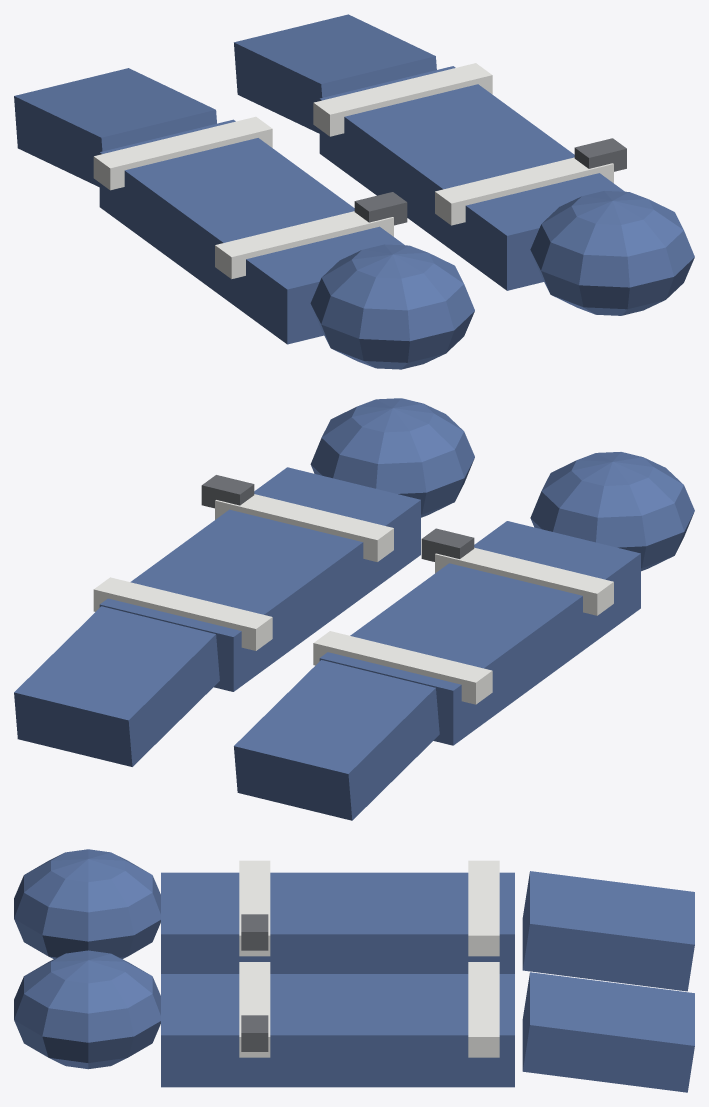
Rendered from baseball-park-and-batting-cages-shin-guards-9eac7356__33773.glb.
3 views of the same model, one above another, from view 1: azimuth 30°, elevation 25°; view 2: azimuth 150°, elevation 25°; view 3: azimuth 270°, elevation 25° (orthographic). The views are drawn at different scales.
Visible parts, largest first — view 1: shin-guards; view 2: shin-guards; view 3: shin-guards.
Part boxes in pixels (x1,y1,x2,y2): shin-guards: [14, 14, 694, 369]; shin-guards: [14, 398, 694, 820]; shin-guards: [14, 849, 694, 1092].
Size of the model in its own units: 0.415 by 0.1124 by 0.654.
